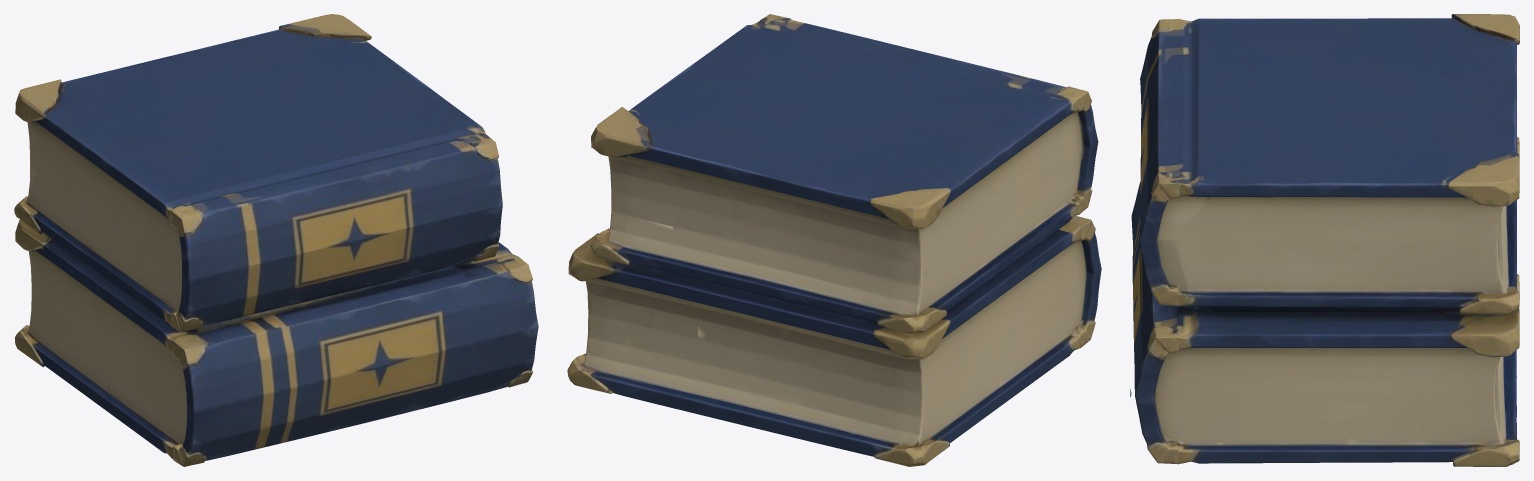
The model's file is ledger.glb.
3 views of the same model, side by side, from view 1: azimuth 30°, elevation 25°; view 2: azimuth 150°, elevation 25°; view 3: azimuth 270°, elevation 25° (orthographic). The views are drawn at different scales.
Parts seen in each view (by area): view 1: node_0; view 2: node_0; view 3: node_0.
Boxes of the visible parts, box(x1,y1,x2,y2) form: node_0: box(14, 14, 538, 466); node_0: box(567, 14, 1101, 466); node_0: box(1130, 14, 1519, 466).
Size of the model in its own units: 0.8134 by 0.5661 by 0.7321.
Materials: 1 (1 with a texture image).
